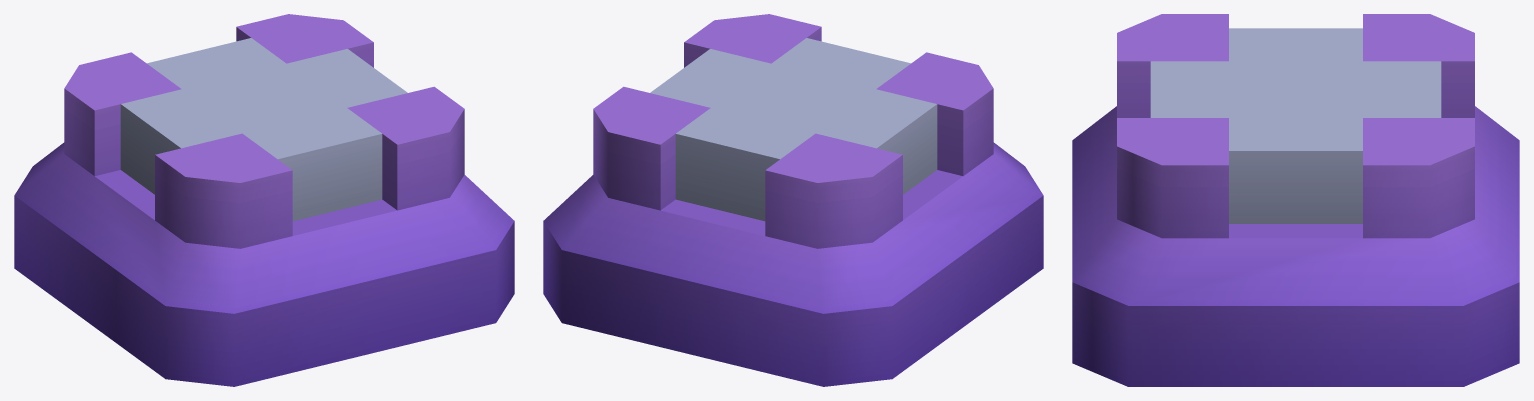
File: tower-square-bottom-c.glb
The picture shows the model from 3 angles, left to right: view 1: azimuth 30°, elevation 25°; view 2: azimuth 150°, elevation 25°; view 3: azimuth 270°, elevation 25°; orthographic projection. The views are drawn at different scales.
Parts seen in each view (by area): view 1: tower-square-bottom-c; view 2: tower-square-bottom-c; view 3: tower-square-bottom-c.
Part boxes in pixels (x1,y1,x2,y2): tower-square-bottom-c: (14, 14, 514, 386); tower-square-bottom-c: (543, 14, 1043, 386); tower-square-bottom-c: (1072, 14, 1519, 386).
Size of the model in its own units: 1 by 0.5001 by 1.
1 material, 1 textured.
